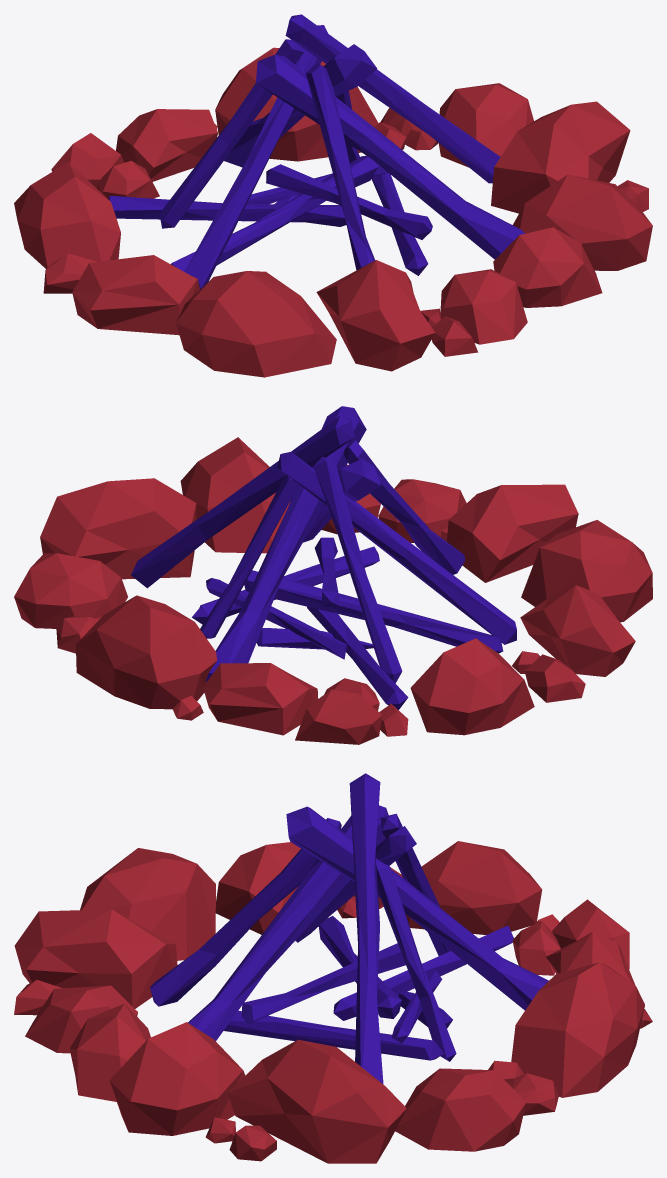
Rendered from koster lp.obj.
3 views of the same model, one above another, from view 1: azimuth 30°, elevation 25°; view 2: azimuth 150°, elevation 25°; view 3: azimuth 270°, elevation 25° (orthographic). The views are drawn at different scales.
Parts seen in each view (by area): view 1: Cube.008_Cube.008_2, Cube.008_Cube.008_1; view 2: Cube.008_Cube.008_2, Cube.008_Cube.008_1; view 3: Cube.008_Cube.008_2, Cube.008_Cube.008_1.
Part boxes in pixels (left/top/right/bottom): Cube.008_Cube.008_2: left=14, top=47, right=652, bottom=377; Cube.008_Cube.008_1: left=108, top=14, right=524, bottom=289; Cube.008_Cube.008_2: left=14, top=437, right=652, bottom=744; Cube.008_Cube.008_1: left=131, top=406, right=516, bottom=709; Cube.008_Cube.008_2: left=14, top=841, right=652, bottom=1163; Cube.008_Cube.008_1: left=150, top=773, right=548, bottom=1084.
Bounding box in the file's own units: 2.43 × 0.9281 × 2.26.
